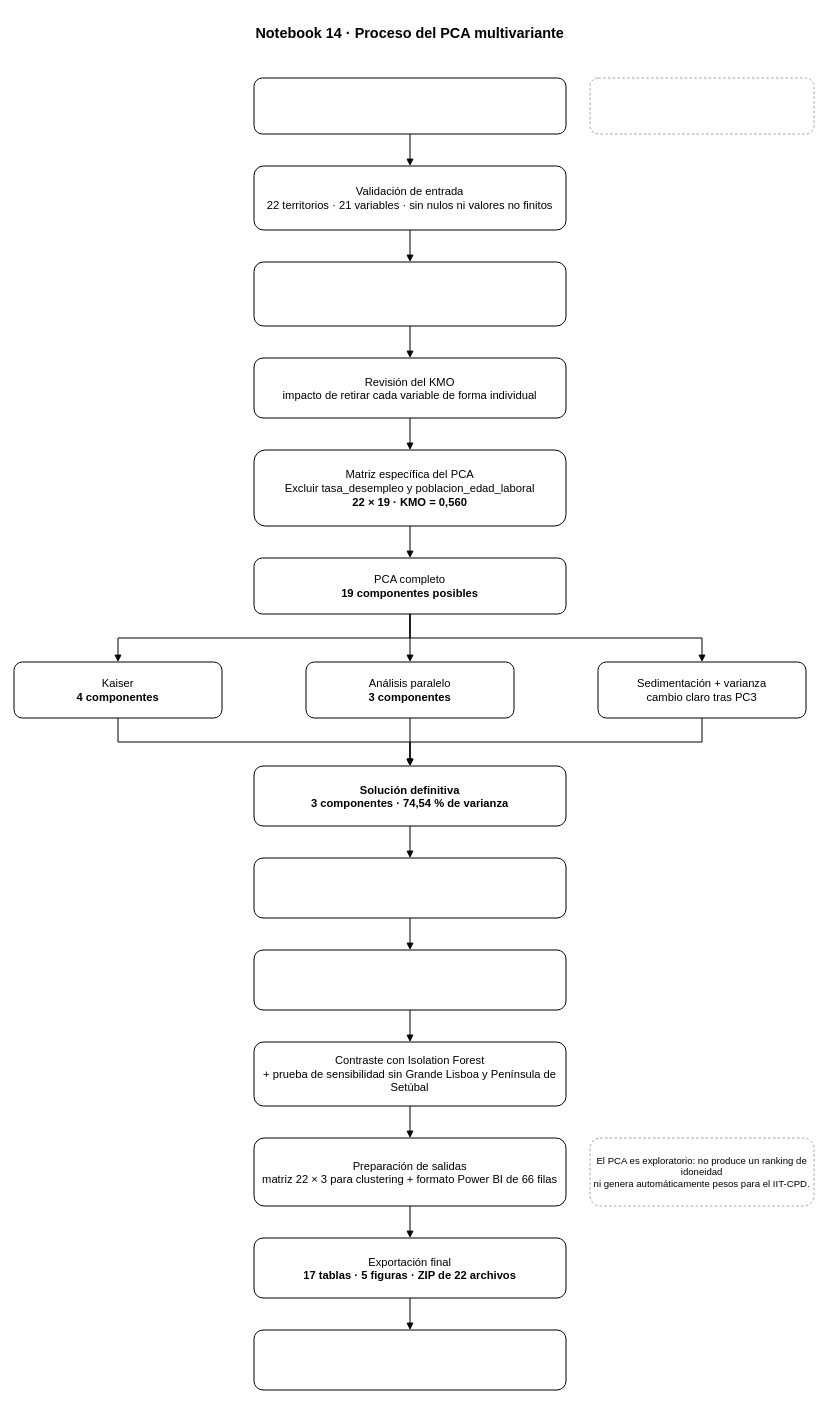
This 829x1404 diagram has some shape labels left out. Each missing label, with the centre of its shape:
Andorra queda fuera del ajuste del PCA y se mantiene como unidad complementaria.: point 701,105
Diagnóstico inicial Pearson + Spearman · KMO = 0,319 · Bartlett significativo: point 409,293
Entrada del Notebook 15 K-means sobre PC1, PC2 y PC3: point 409,1359
Interpretación cargas · contribuciones · comunalidades · familias: point 409,887
Notebook 12 Matriz estandarizada 22 × 21: point 409,105
Puntuaciones territoriales 22 territorios × 3 componentes: point 409,979
